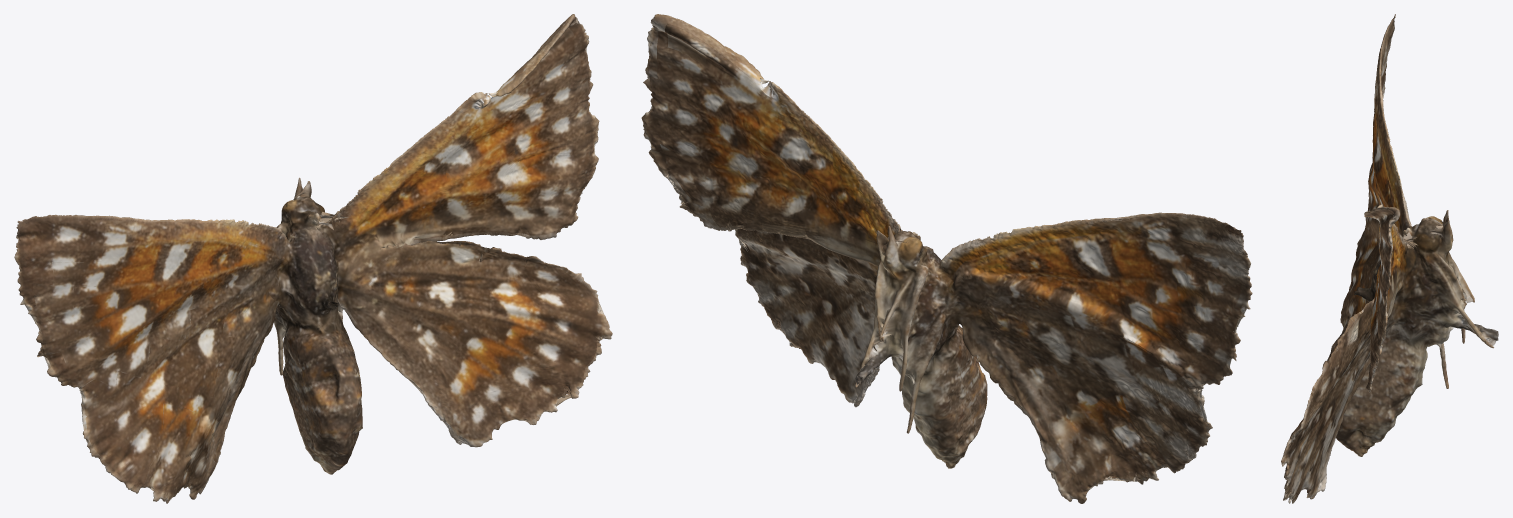
The model's file is mormon_metalmark_butterfly.glb.
3 renders of one model, left to right at view 1: azimuth 30°, elevation 25°; view 2: azimuth 150°, elevation 25°; view 3: azimuth 270°, elevation 25°, orthographic. The views are drawn at different scales.
Parts seen in each view (by area): view 1: Object_3, Object_2, Object_5, Object_4, Object_6; view 2: Object_2, Object_4, Object_5, Object_3, Object_6; view 3: Object_5, Object_3, Object_2, Object_4, Object_6.
Part boxes in pixels (box(x1,y1,x2,y2)): Object_3: box(14, 17, 605, 499); Object_2: box(24, 54, 611, 492); Object_5: box(14, 14, 612, 501); Object_4: box(20, 17, 605, 499); Object_6: box(15, 18, 600, 503); Object_2: box(641, 31, 1248, 471); Object_4: box(645, 23, 1248, 503); Object_5: box(643, 14, 1251, 503); Object_3: box(650, 17, 1252, 501); Object_6: box(643, 15, 1251, 500); Object_5: box(1281, 22, 1498, 503); Object_3: box(1284, 14, 1492, 495); Object_2: box(1281, 20, 1498, 500); Object_4: box(1283, 24, 1498, 498); Object_6: box(1283, 16, 1498, 500).
Bounding box in the file's own units: 1.72 × 1.08 × 0.5729.
1 material, 1 textured.
